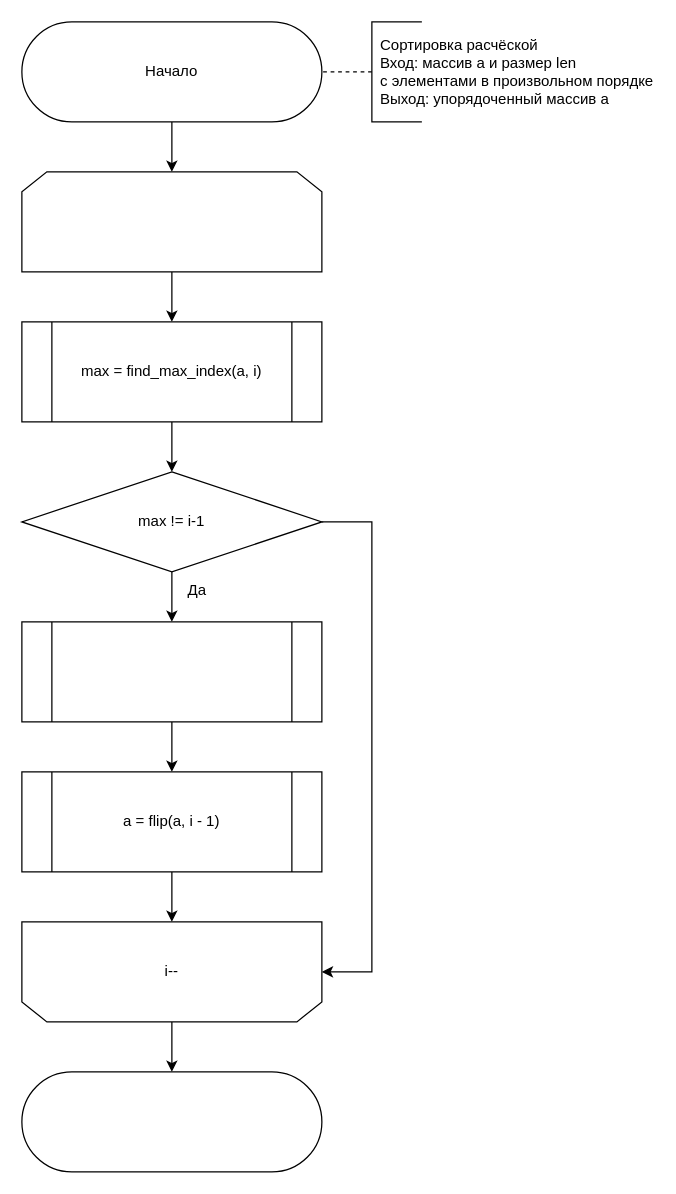
The diagram is 676 pixels wide and 1194 high, and some of its shapes have lost their labels. The box of each missing label's shape, as (x1, y1, x2, y2) in pixels:
a = flip(a, max): (21, 621, 322, 722)
Конец: (21, 1071, 322, 1172)
Цикл i = len; i > 1: (21, 171, 322, 272)
